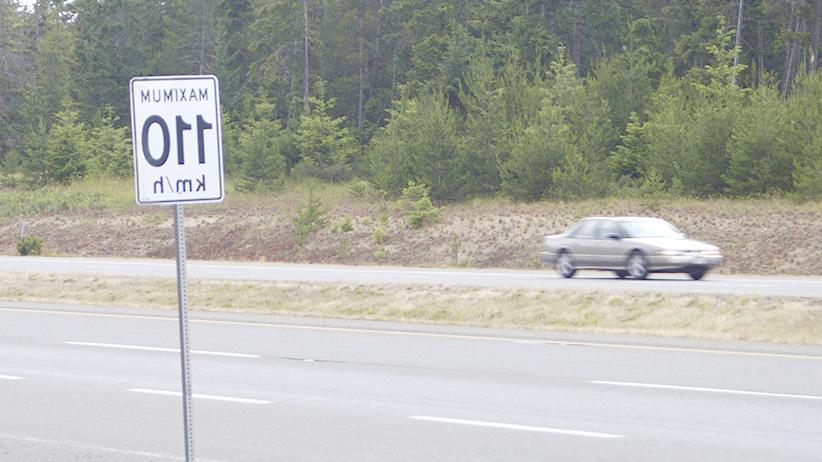speed limit sign: (136, 73, 222, 209)
